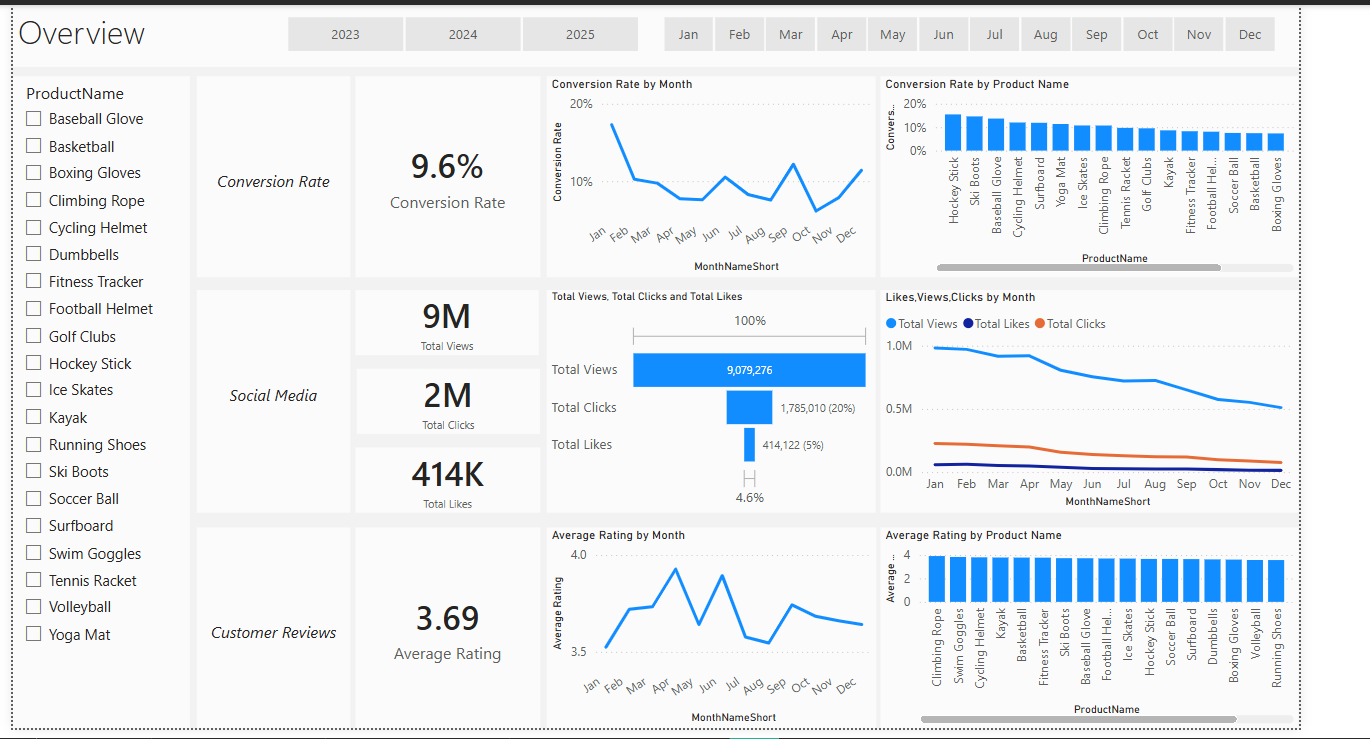

The dashboard page shown, as its layout file describes it:
{"tool":"powerbi","page":{"name":"Overview","canvas":[1280,720],"ordinal":0},"visuals":[{"type":"textbox","box":[0,0,1280,61.2],"z":0},{"type":"slicer","fields":{"Values":["dim_products.ProductName"]},"box":[0,71.2,176.2,648.8],"z":1000},{"type":"card","fields":{"Values":["Calculations.ConversionRate"]},"box":[341.2,71.2,183.8,200],"z":2000},{"type":"card","fields":{"Values":["Calculations.TotalViews"]},"box":[341.2,283.8,182.5,65],"z":3000},{"type":"card","fields":{"Values":["Calculations.TotalClicks"]},"box":[342.5,362.5,182.5,65],"z":4000},{"type":"card","fields":{"Values":["Calculations.Average Rating"]},"box":[341.2,520,183.8,200],"z":5000},{"type":"card","fields":{"Values":["Calculations.TotalLikes"]},"box":[341.2,440,183.8,65],"z":6000},{"type":"textbox","box":[182.5,71.2,152.5,200],"z":7000},{"type":"textbox","box":[182.5,283.8,152.5,221.2],"z":8000},{"type":"textbox","box":[182.5,520,152.5,200],"z":9000},{"type":"slicer","fields":{"Values":["Calendar.Year"]},"box":[247.5,5,398.8,47.5],"z":10000},{"type":"slicer","fields":{"Values":["Calendar.MonthNameShort"]},"box":[622.5,5,657.5,47.5],"z":11000},{"type":"lineChart","title":"Conversion Rate by Month","fields":{"Y":["Calculations.Conversion Rate"],"Category":["Calendar.MonthNameShort"]},"box":[531.2,71.2,327.5,200],"z":12000},{"type":"clusteredColumnChart","title":"Conversion Rate by Product Name","fields":{"Y":["Calculations.Conversion Rate"],"Category":["dim_products.ProductName"]},"box":[863.8,71.2,416.2,200],"z":13000},{"type":"lineChart","title":"Likes,Views,Clicks by Month","fields":{"Y":["Calculations.Total Views","Calculations.Total Likes","Calculations.Total Clicks"],"Category":["Calendar.MonthNameShort"]},"box":[863.8,283.8,416.2,221.2],"z":14000},{"type":"funnel","fields":{"Y":["Calculations.Total Views","Calculations.Total Clicks","Calculations.Total Likes"]},"box":[531.2,283.8,327.5,221.2],"z":15000},{"type":"lineChart","title":"Average Rating by Month","fields":{"Y":["Calculations.Average Rating"],"Category":["Calendar.MonthNameShort"]},"box":[531,520,328,200],"z":16000},{"type":"clusteredColumnChart","title":"Average Rating by Product Name","fields":{"Category":["dim_products.ProductName"],"Y":["Calculations.Average Rating"]},"box":[863.8,520,416.2,200],"z":17000}]}

Visuals, with their boxes on the page's 1280x720 design canvas (x1, y1, x2, y2). These are canvas units, not pixel positions in the 1370x739 screenshot, which may show the page scaled, cropped or inside an application window:
textbox: [left=0, top=0, right=1280, bottom=61]
slicer - dim_products.ProductName: [left=0, top=71, right=176, bottom=720]
card - Calculations.ConversionRate: [left=341, top=71, right=525, bottom=271]
card - Calculations.TotalViews: [left=341, top=284, right=524, bottom=349]
card - Calculations.TotalClicks: [left=342, top=362, right=525, bottom=428]
card - Calculations.Average Rating: [left=341, top=520, right=525, bottom=720]
card - Calculations.TotalLikes: [left=341, top=440, right=525, bottom=505]
textbox: [left=182, top=71, right=335, bottom=271]
textbox: [left=182, top=284, right=335, bottom=505]
textbox: [left=182, top=520, right=335, bottom=720]
slicer - Calendar.Year: [left=248, top=5, right=646, bottom=52]
slicer - Calendar.MonthNameShort: [left=622, top=5, right=1280, bottom=52]
"Conversion Rate by Month" lineChart: [left=531, top=71, right=859, bottom=271]
"Conversion Rate by Product Name" clusteredColumnChart: [left=864, top=71, right=1280, bottom=271]
"Likes,Views,Clicks by Month" lineChart: [left=864, top=284, right=1280, bottom=505]
funnel - Calculations.Total Views x Calculations.Total Clicks: [left=531, top=284, right=859, bottom=505]
"Average Rating by Month" lineChart: [left=531, top=520, right=859, bottom=720]
"Average Rating by Product Name" clusteredColumnChart: [left=864, top=520, right=1280, bottom=720]
